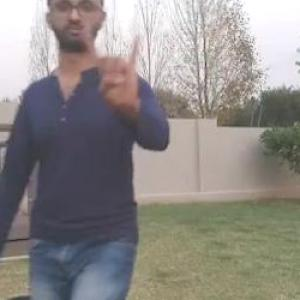takeoff-hand: (76, 26, 148, 113)
